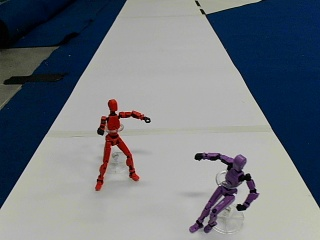pedestrian: (189, 150, 257, 232), (95, 98, 148, 188)
